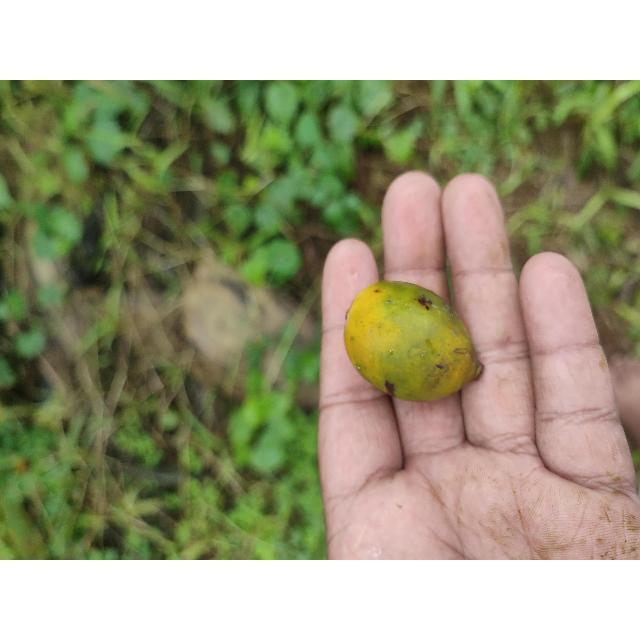damaged: (342, 281, 484, 404)
